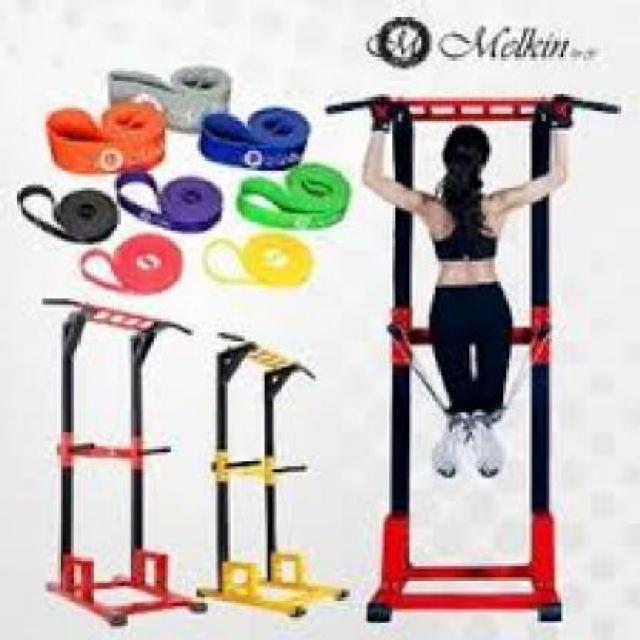chinning dipping: (42, 297, 206, 628), (198, 329, 352, 620)
